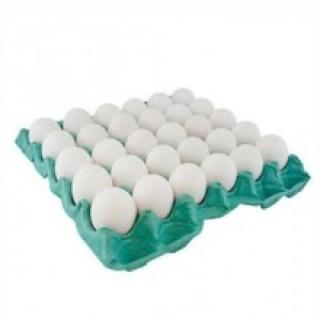Egg: (132, 174, 182, 227), (92, 186, 141, 238), (69, 161, 118, 213), (227, 138, 276, 190), (48, 143, 96, 195), (195, 148, 238, 194), (171, 159, 208, 205), (264, 134, 301, 180), (40, 130, 80, 166), (134, 98, 168, 139), (127, 120, 160, 161), (92, 132, 125, 172), (206, 119, 239, 159), (176, 129, 209, 169), (154, 113, 187, 153), (104, 103, 137, 143), (160, 93, 193, 133), (142, 137, 174, 178), (182, 107, 214, 148), (112, 152, 144, 192), (74, 113, 106, 153), (234, 112, 266, 152), (27, 112, 60, 144)
